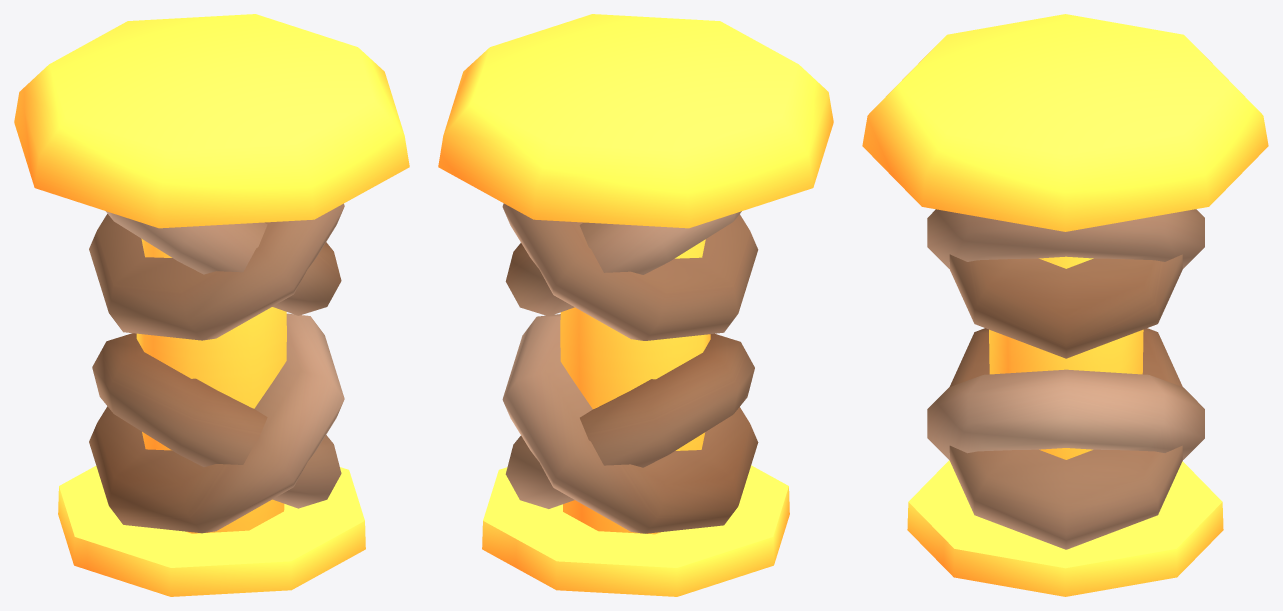
The model's file is gold_grip_015.glb.
3 views of the same model, side by side, from view 1: azimuth 30°, elevation 25°; view 2: azimuth 150°, elevation 25°; view 3: azimuth 270°, elevation 25° (orthographic).
Visible parts, largest first — view 1: gold_grip_015; view 2: gold_grip_015; view 3: gold_grip_015.
Part boxes in pixels (<box>): gold_grip_015: <box>14,14,409,596</box>; gold_grip_015: <box>438,14,833,596</box>; gold_grip_015: <box>862,14,1268,596</box>.
Bounding box in the file's own units: 2.62 × 3.16 × 2.62.
Materials: 1 (1 with a texture image).
